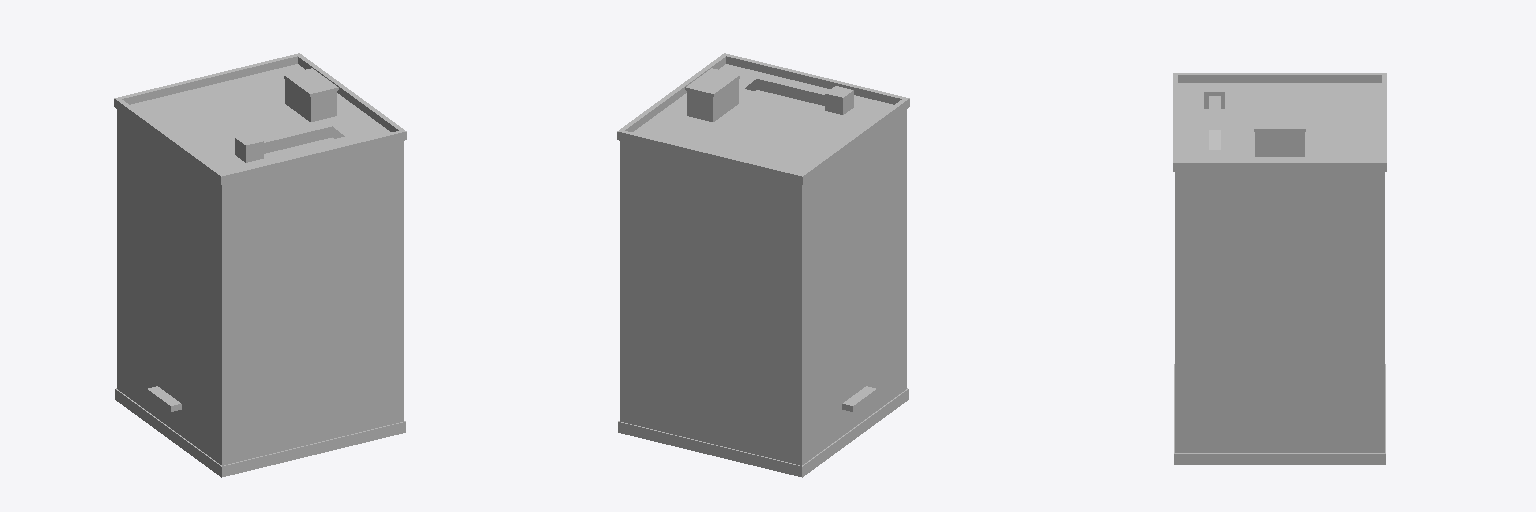
File: Building2.obj
The picture shows the model from 3 angles: view 1: azimuth 30°, elevation 25°; view 2: azimuth 150°, elevation 25°; view 3: azimuth 270°, elevation 25°; orthographic projection.
Visible parts, largest first — view 1: Building2 PROPS; view 2: Building2 PROPS; view 3: Building2 PROPS.
Boxes of the visible parts, box(x1,y1,x2,y2) form: Building2 PROPS: box(114, 53, 406, 477); Building2 PROPS: box(617, 53, 909, 477); Building2 PROPS: box(1173, 73, 1386, 464).
Bounding box in the file's own units: 10.7 × 16.96 × 10.2.